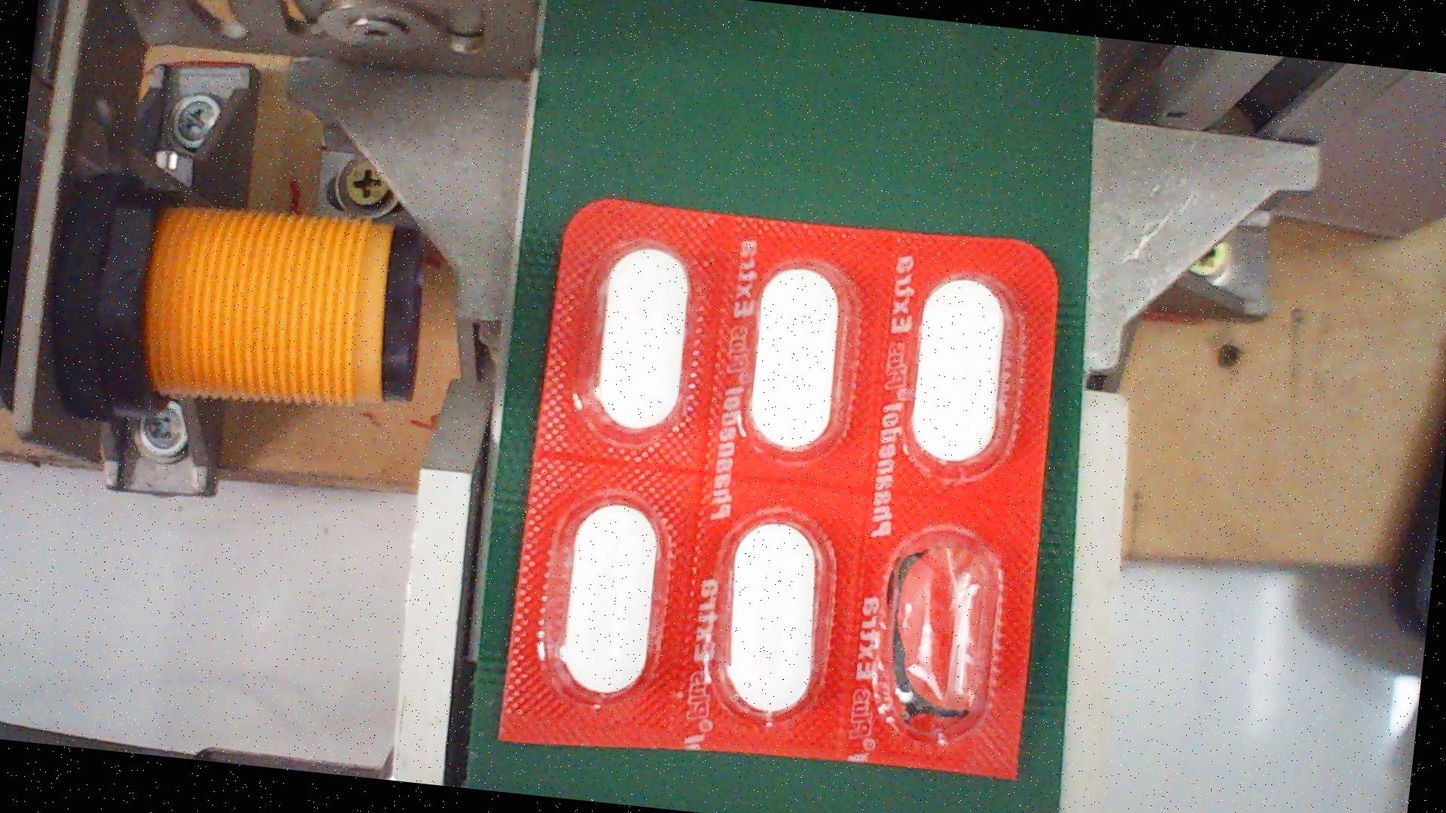Empty: (877, 521, 1004, 746)
Full: (898, 263, 1023, 477), (550, 492, 674, 706), (711, 513, 835, 727), (735, 257, 859, 471), (585, 227, 709, 441)
